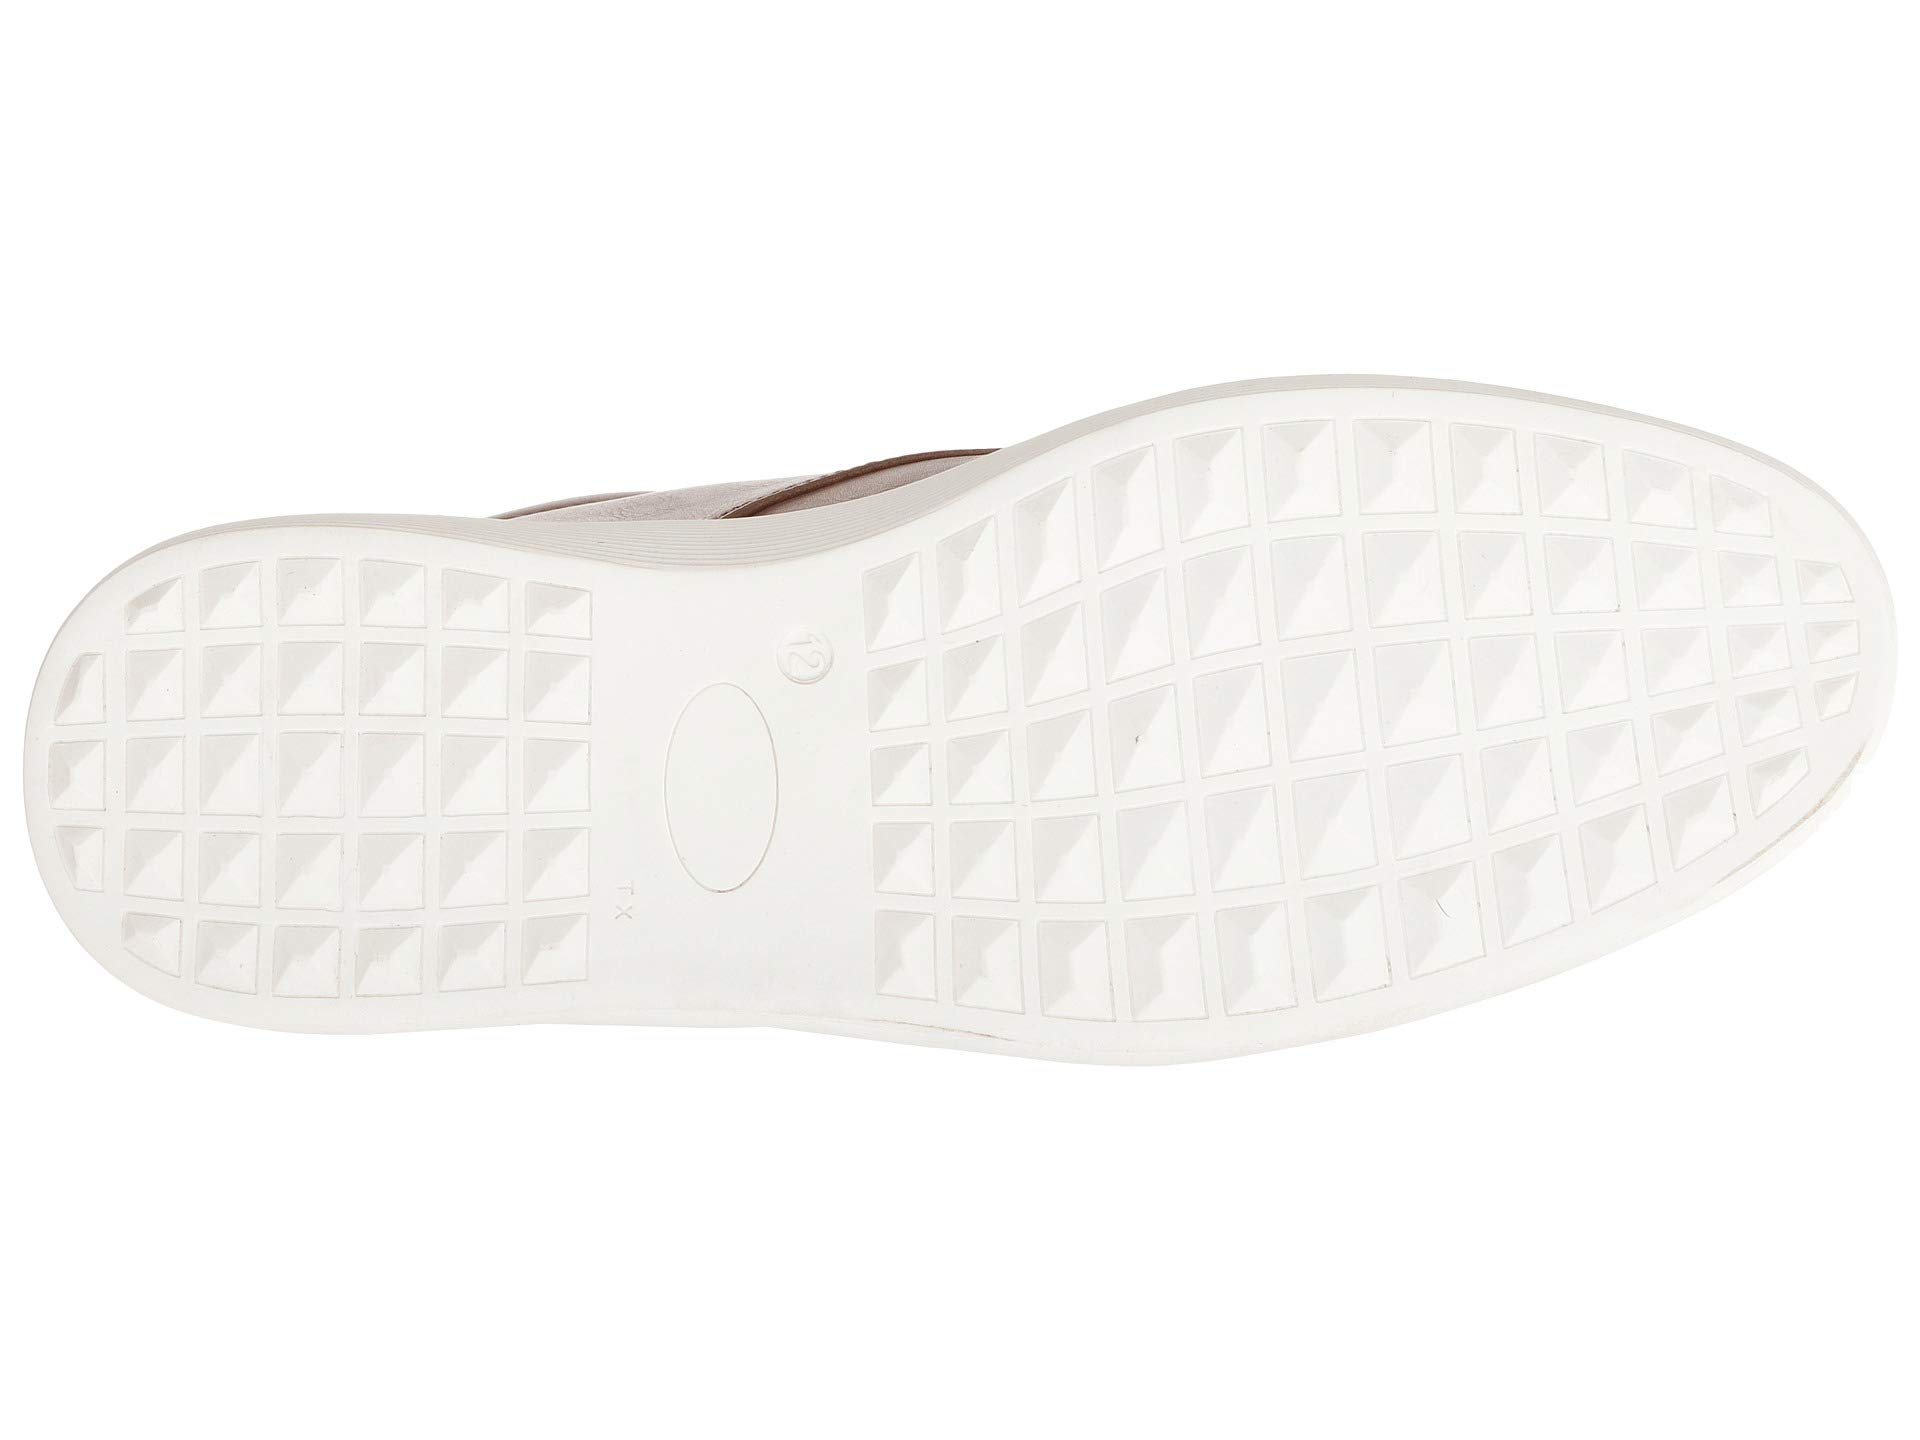circle: (763, 588, 865, 702)
quad: (1039, 507, 1473, 961), (1486, 479, 1785, 787)
text: (763, 588, 865, 702)
